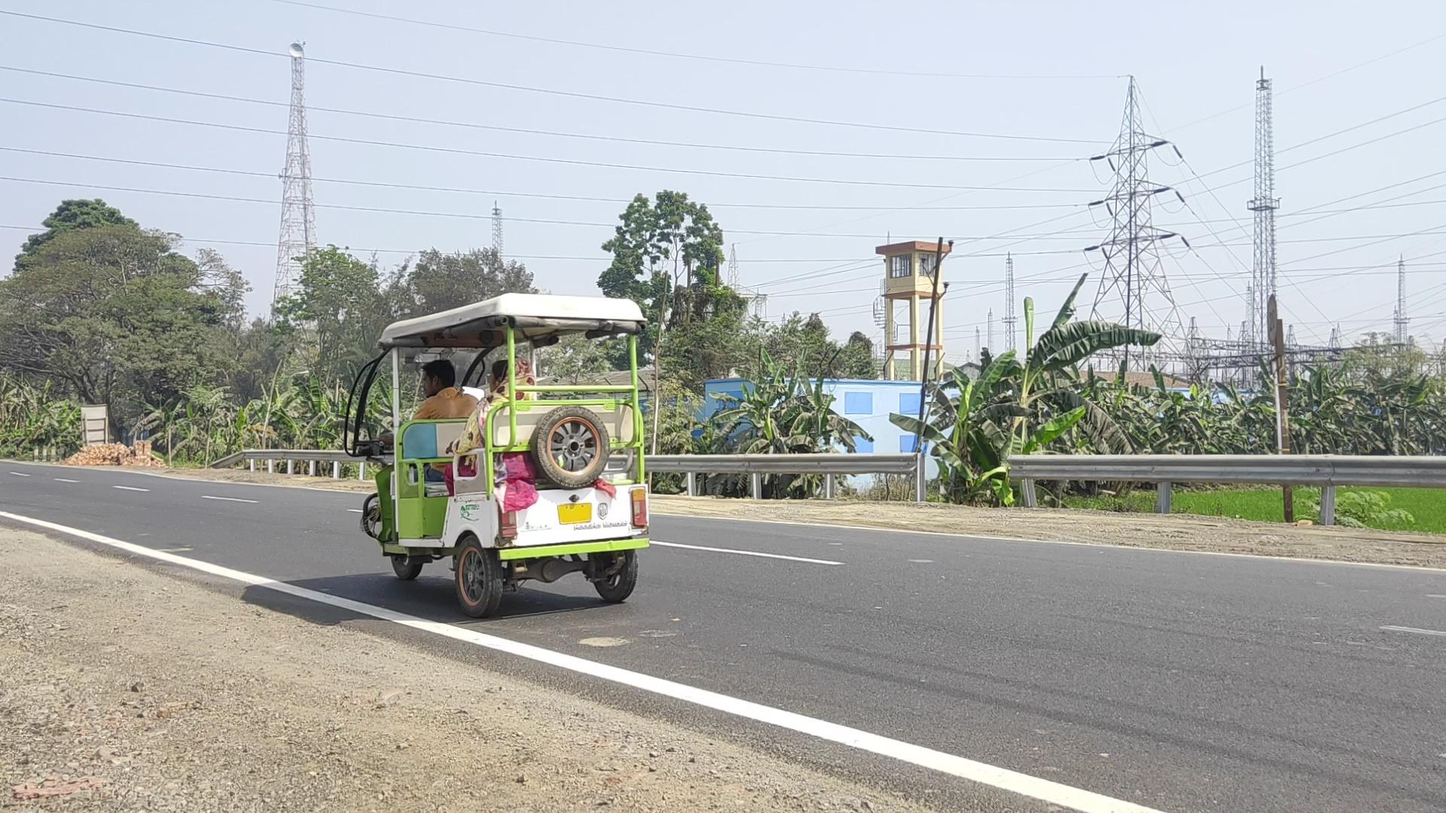Auto: (343, 293, 651, 617)
